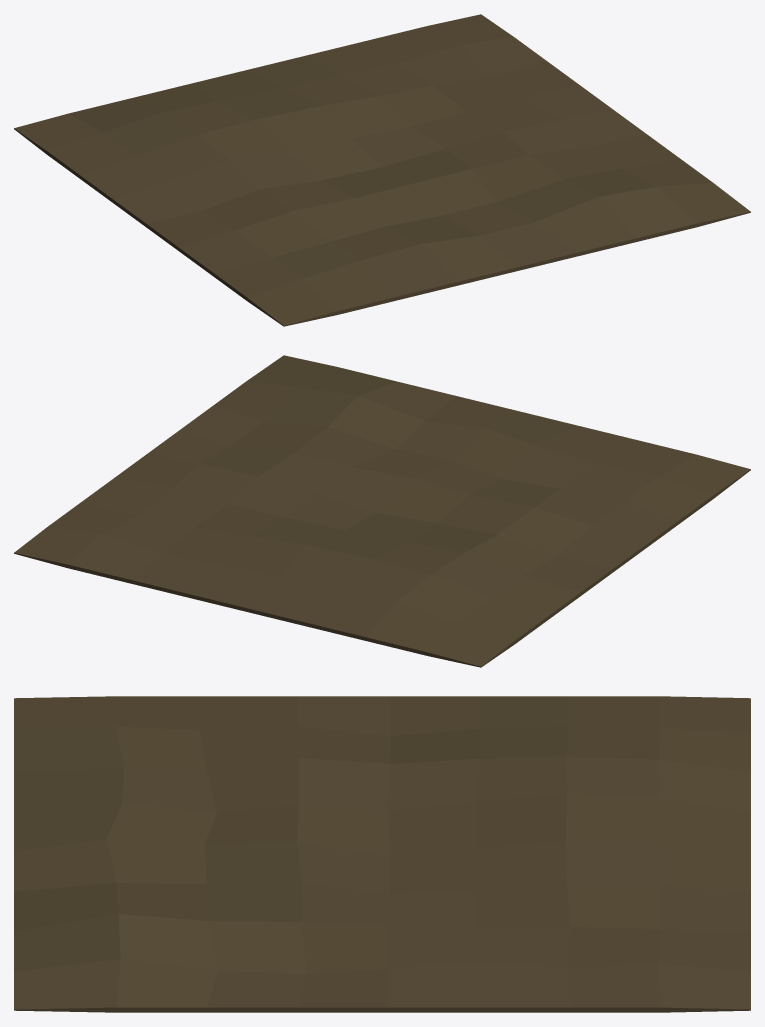
File: BigGround.1.fbx
3 views of the same model, one above another, from view 1: azimuth 30°, elevation 25°; view 2: azimuth 150°, elevation 25°; view 3: azimuth 270°, elevation 25° (orthographic). The views are drawn at different scales.
Visible parts, largest first — view 1: Floor.1; view 2: Floor.1; view 3: Floor.1.
Boxes of the visible parts, <box> form: Floor.1: <box>14,14,750,326</box>; Floor.1: <box>14,355,750,667</box>; Floor.1: <box>14,696,750,1012</box>.
Bounding box in the file's own units: 1299 × 82.14 × 1300.
